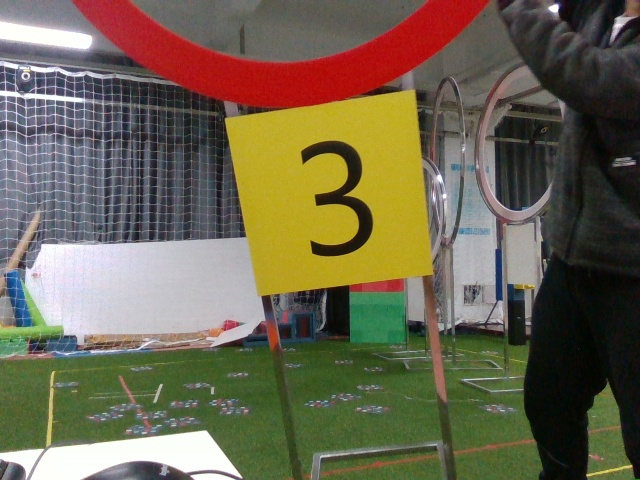target: (252, 116, 421, 275)
